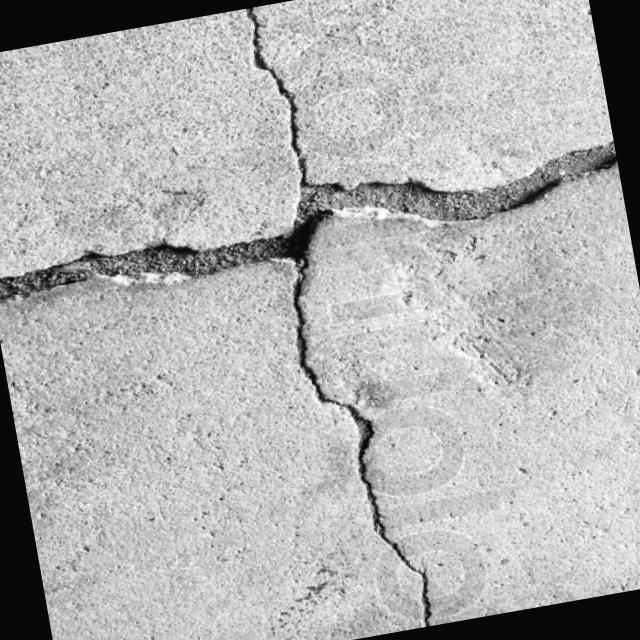crack: (277, 248, 439, 640), (230, 3, 312, 187)
spall: (0, 120, 624, 315)
